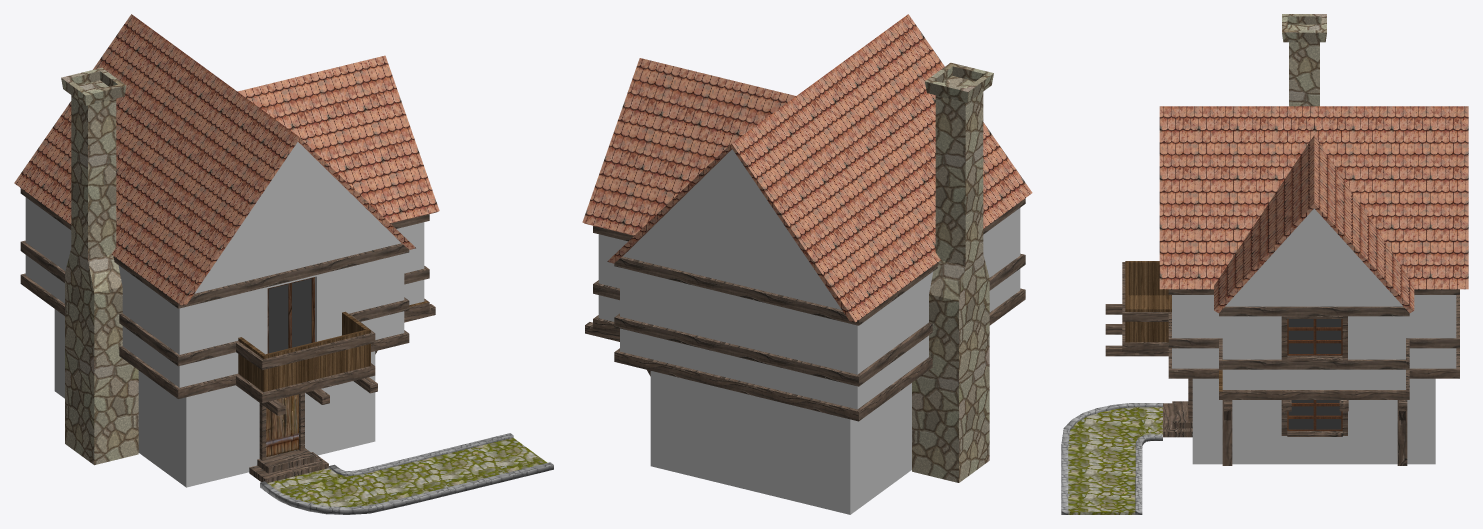
File: House 13.fbx
3 renders of one model, left to right at view 1: azimuth 30°, elevation 25°; view 2: azimuth 150°, elevation 25°; view 3: azimuth 270°, elevation 25°, orthographic. The views are drawn at different scales.
Visible parts, largest first — view 1: Telhado House 13, Telhado House 13.001, Chamine House 13, Detalhes House 13, Cube.050, Detalhes House 13.001, Telhado House 13.002, Porta 2 House 13; view 2: Telhado House 13.001, Telhado House 13, Chamine House 13, Detalhes House 13; view 3: Telhado House 13, Telhado House 13.001, Detalhes House 13, Cube.050, Janelas House 13, Chamine House 13, Detalhes House 13.001.
Part boxes in pixels (<box>): Telhado House 13: <box>14,14,439,305</box>; Telhado House 13.001: <box>25,142,424,487</box>; Chamine House 13: <box>61,67,138,465</box>; Detalhes House 13: <box>20,188,435,482</box>; Cube.050: <box>260,433,553,514</box>; Detalhes House 13.001: <box>238,311,370,391</box>; Telhado House 13.002: <box>267,277,314,353</box>; Porta 2 House 13: <box>266,394,298,456</box>; Telhado House 13.001: <box>598,149,1020,514</box>; Telhado House 13: <box>582,14,1032,322</box>; Chamine House 13: <box>912,62,993,482</box>; Detalhes House 13: <box>585,198,1025,421</box>; Telhado House 13: <box>1159,106,1468,313</box>; Telhado House 13.001: <box>1172,208,1456,464</box>; Detalhes House 13: <box>1105,262,1459,465</box>; Cube.050: <box>1061,403,1162,514</box>; Janelas House 13: <box>1287,319,1342,430</box>; Chamine House 13: <box>1282,14,1326,106</box>; Detalhes House 13.001: <box>1125,261,1171,342</box>.
Size of the model in its own units: 885 by 902 by 968.
